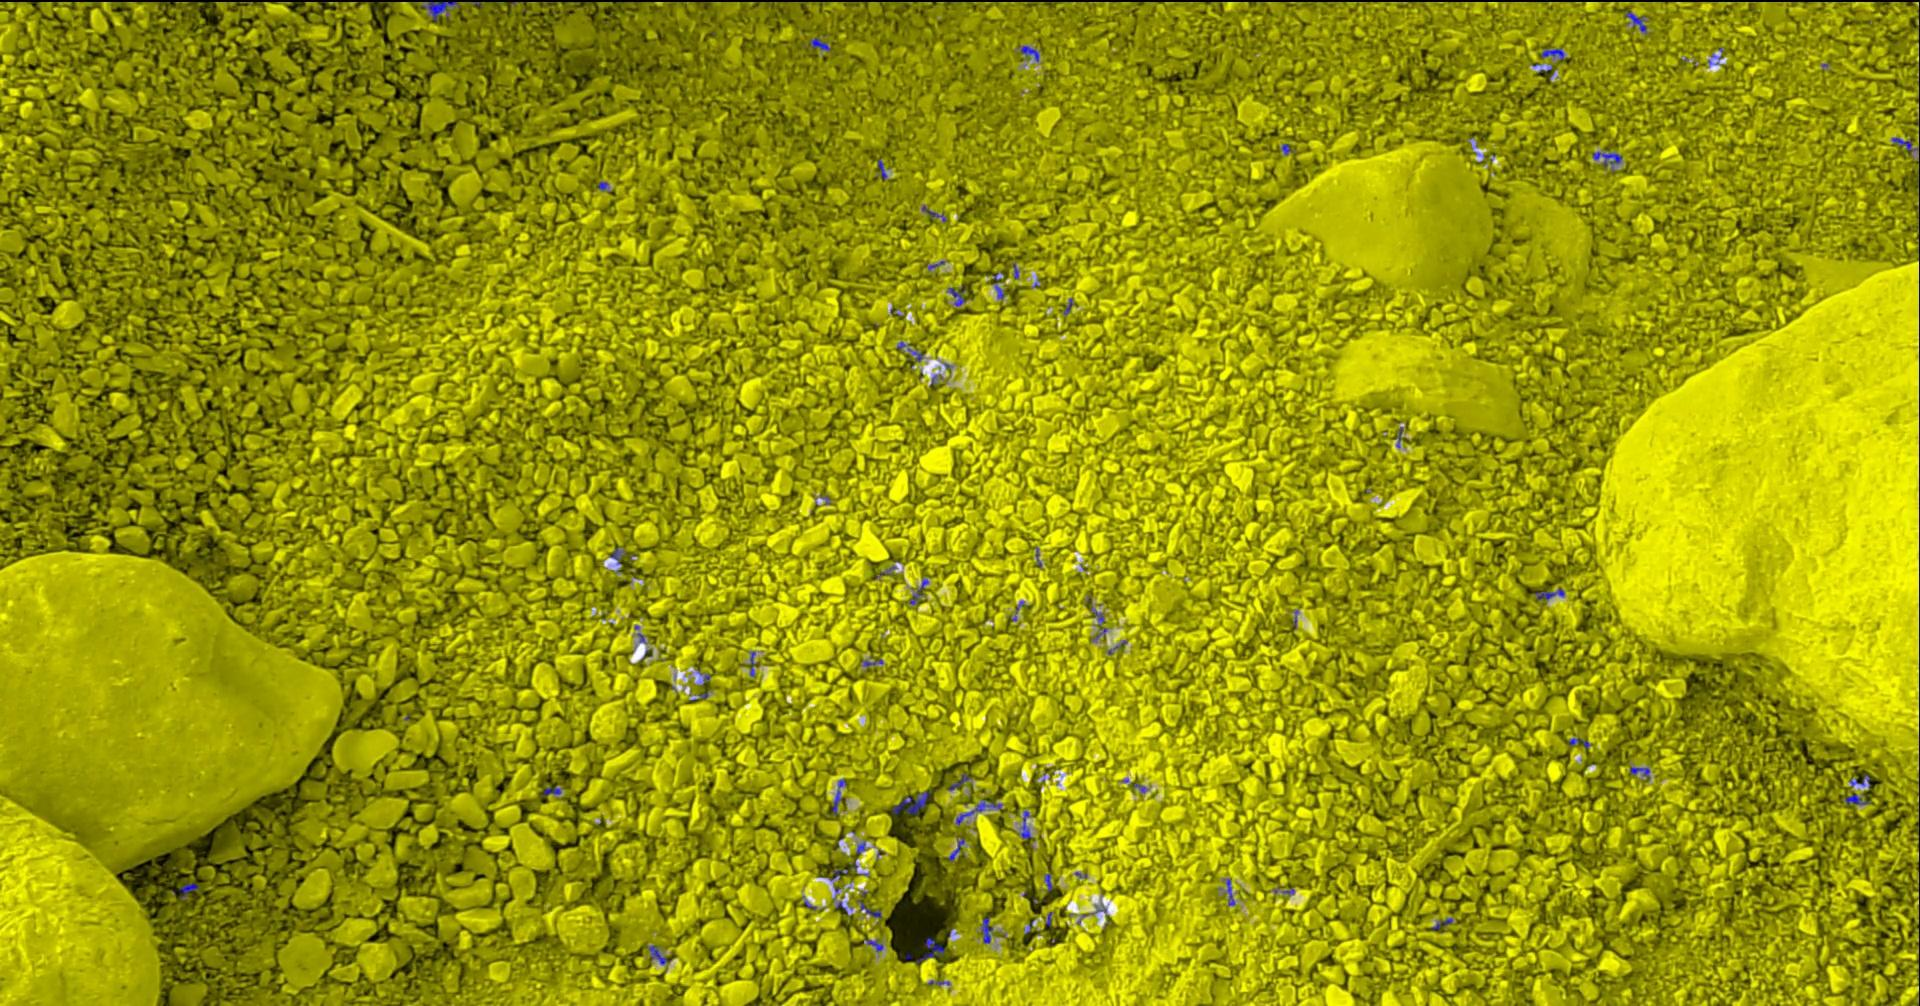ant: (955, 799, 1001, 824), (891, 790, 930, 814), (422, 0, 458, 20), (916, 936, 943, 963), (830, 779, 846, 814), (1592, 149, 1622, 166), (897, 340, 922, 361), (908, 579, 928, 605), (648, 945, 670, 964), (857, 899, 881, 917), (1891, 137, 1919, 152), (921, 205, 946, 221), (1625, 11, 1646, 32), (947, 837, 964, 861), (1534, 587, 1564, 600), (990, 272, 1004, 298), (179, 882, 198, 901), (949, 285, 965, 305), (1018, 44, 1037, 61), (949, 774, 969, 789), (980, 916, 992, 942), (1849, 774, 1870, 788), (1540, 47, 1563, 60), (1020, 810, 1030, 838), (809, 37, 830, 50), (1844, 794, 1870, 804), (875, 159, 888, 179), (1629, 766, 1650, 779), (610, 547, 625, 564), (749, 652, 759, 676), (1225, 878, 1234, 904), (1431, 917, 1451, 929), (865, 939, 883, 951), (1568, 738, 1589, 748), (542, 786, 560, 794)
